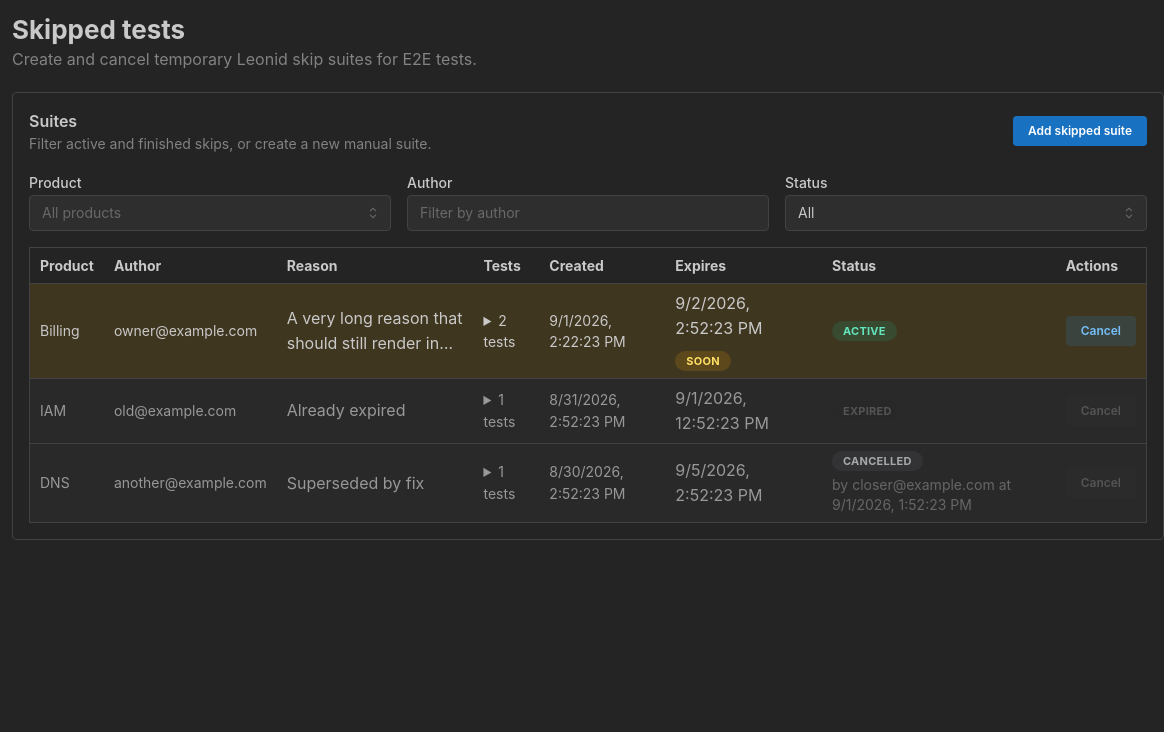
Test: SkippedTestsPanel › filters suites by author and finished status
Expected: the text "owner@example.com" is shown, top-left (104, 284), bottom-right (277, 379)
Type "another" into the field labelled "Author" at [588, 213], box top-left (407, 195), bottom-right (769, 231)
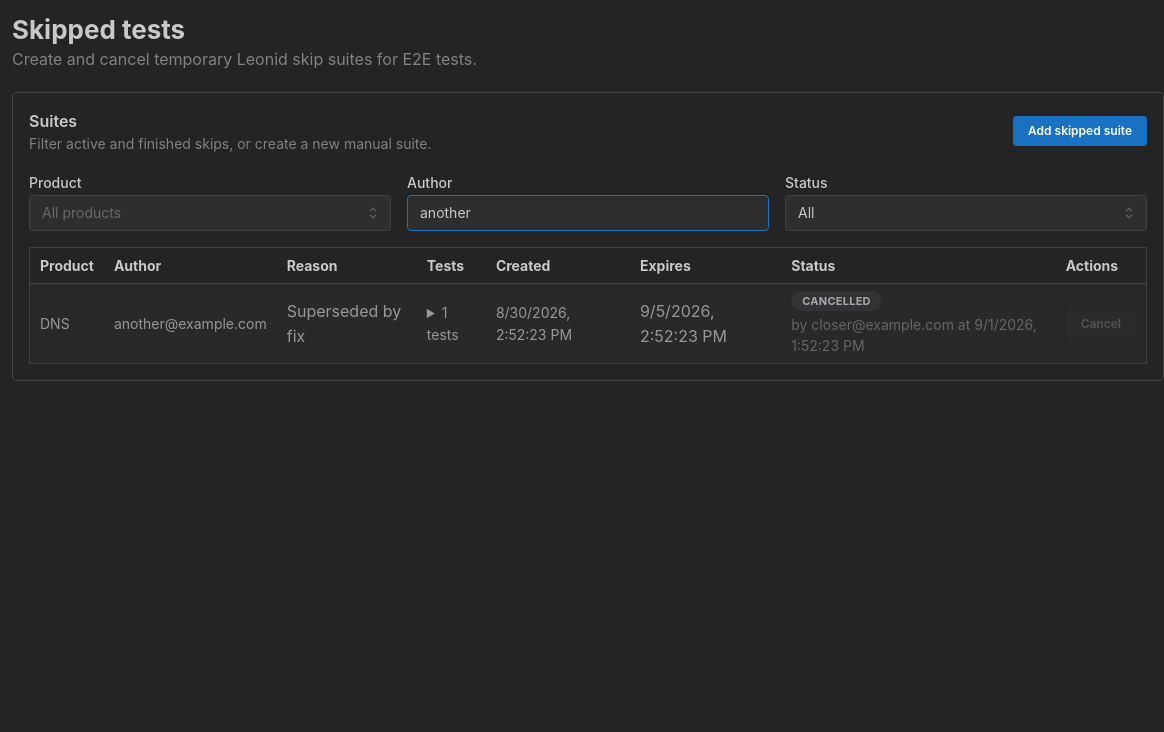
Expected: the text "another@example.com" is shown, top-left (104, 284), bottom-right (277, 364)
Result: the text "owner@example.com" is gone
Clear the field labelled "Author" at [588, 213], box top-left (407, 195), bottom-right (769, 231)
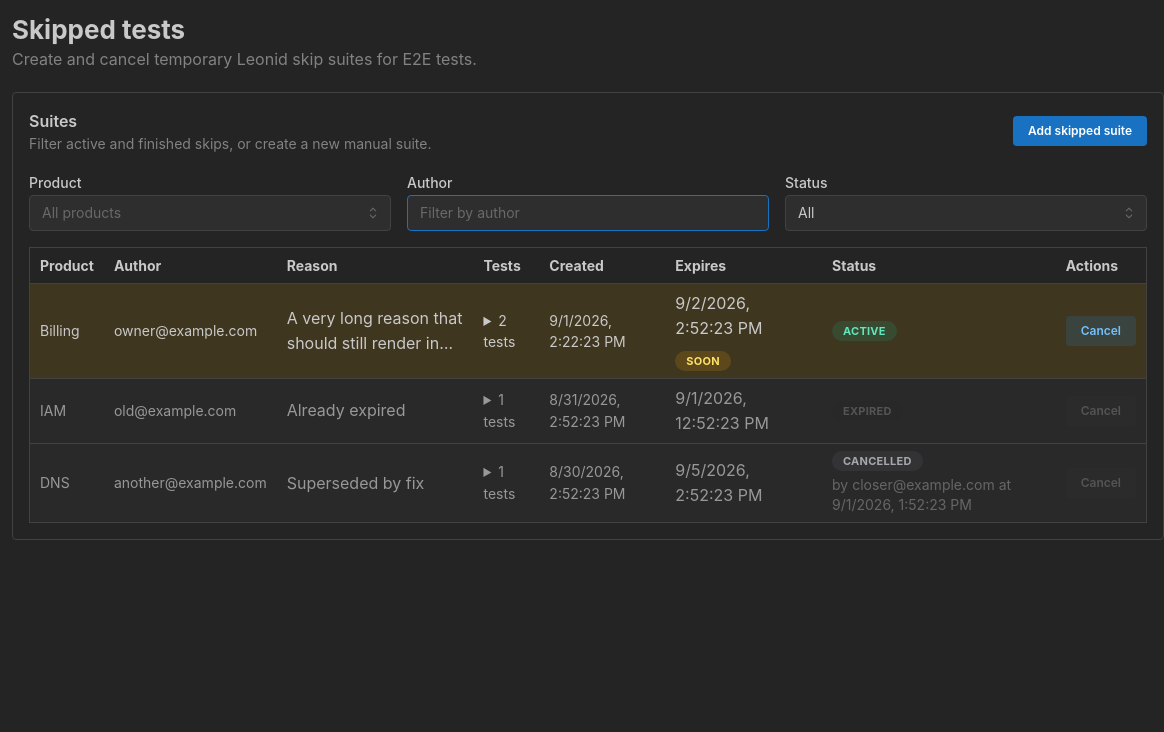
Click the field labelled "Status" at [966, 213], box top-left (785, 195), bottom-right (1147, 231)
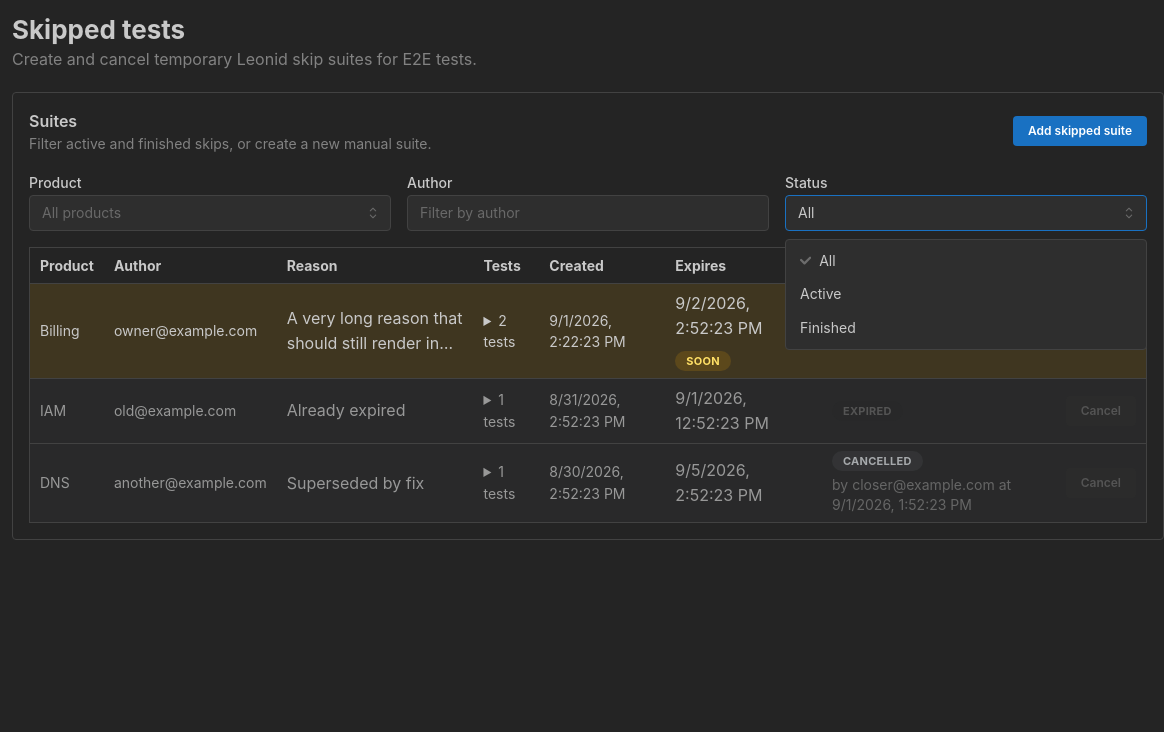
Click the option "Finished" at [828, 328], box top-left (800, 319), bottom-right (856, 336)
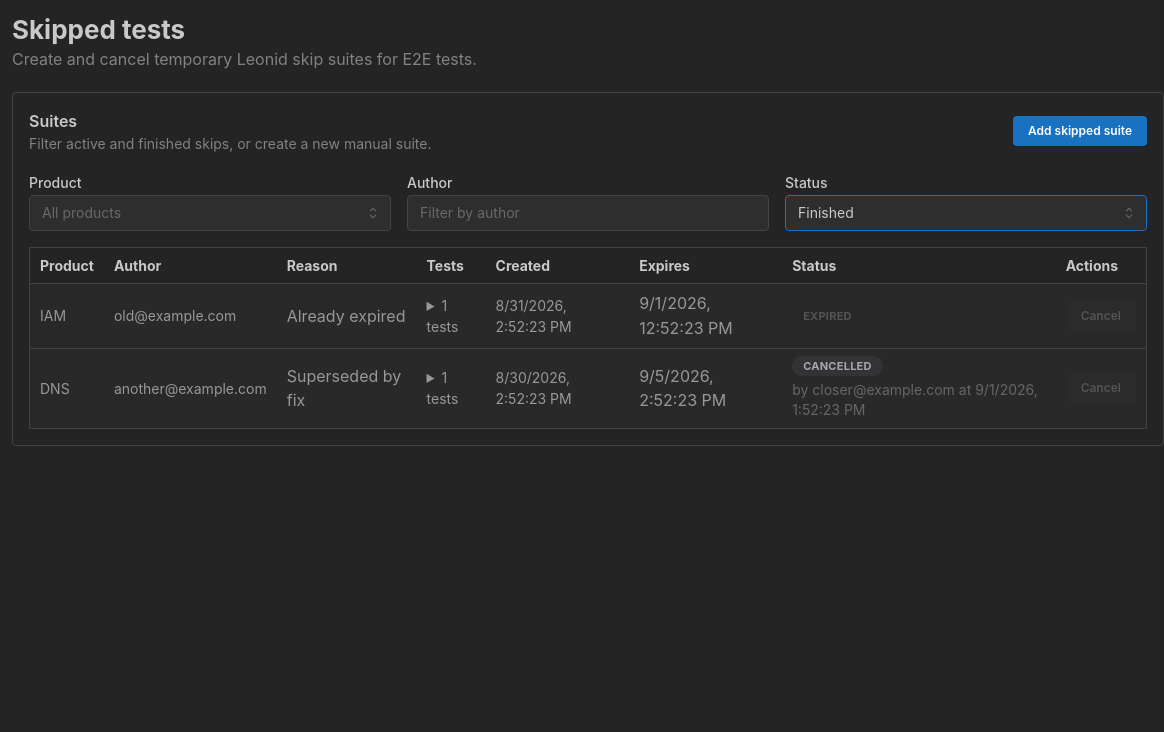
Expected: the text "another@example.com" is shown, top-left (104, 349), bottom-right (277, 428)
Result: the text "old@example.com" is shown at top-left (104, 284), bottom-right (277, 349)
Result: the text "owner@example.com" is gone
